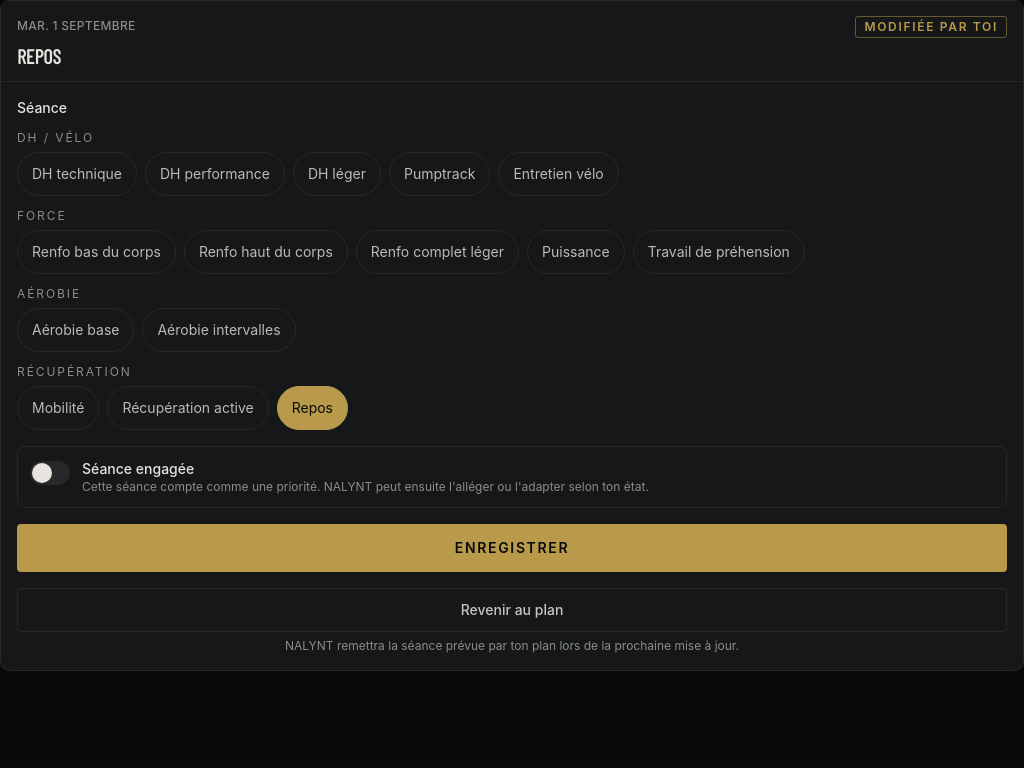
PlanningDayCard — create/edit and day actions (J, K, L, M, N) › the athlete's change of a plan day → Revenir au plan deletes it and says the plan's session comes back at the next update (not instantly)
The width and height of the screenshot is (1024, 768).
Click the button "Revenir au plan" at (512, 610), box [17,588,1007,632]
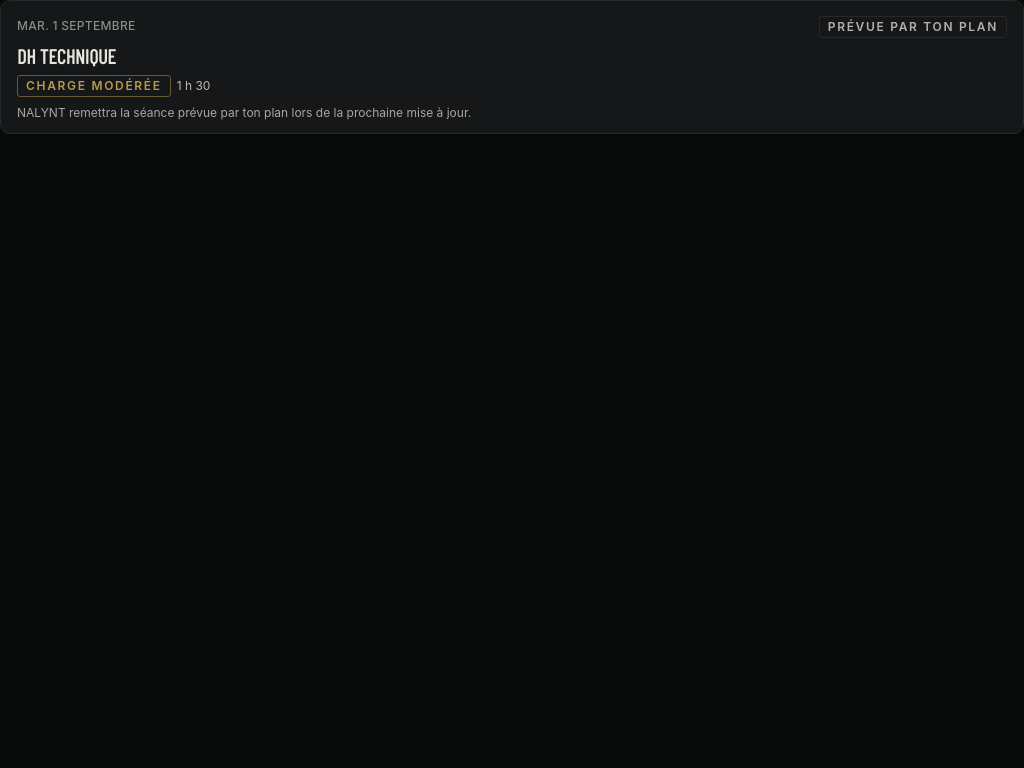
Expected: the text "NALYNT remettra la séance prévue par ton plan lors de la prochaine mise à jour." is shown, [17,105,471,120]
Expected: the text "Prévue par ton plan" is shown, [819,16,1007,38]
Expected: the text "DH technique" is shown, [17,44,116,68]
